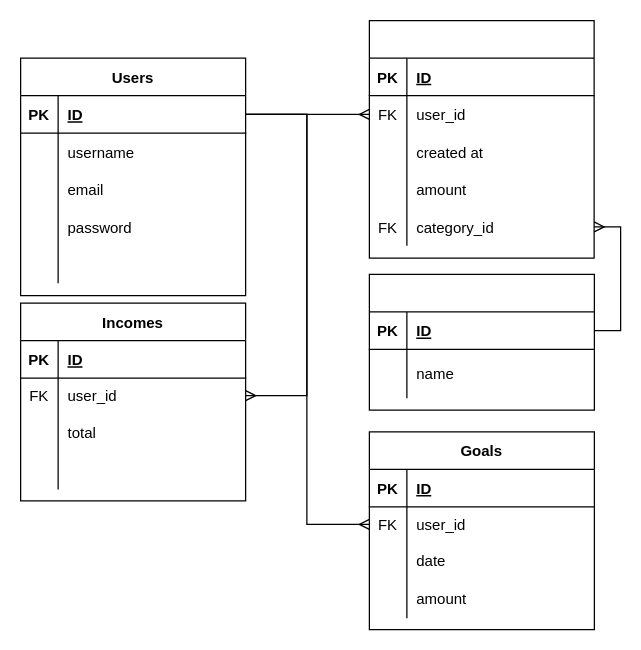
Some shapes in this 641 by 650 pixel diagram are drawn without their labels. Here are the shapes that lost their labels. From the top down, the box of each, then its label:
(368, 19, 594, 258): Expenses
(368, 273, 594, 410): Categories
